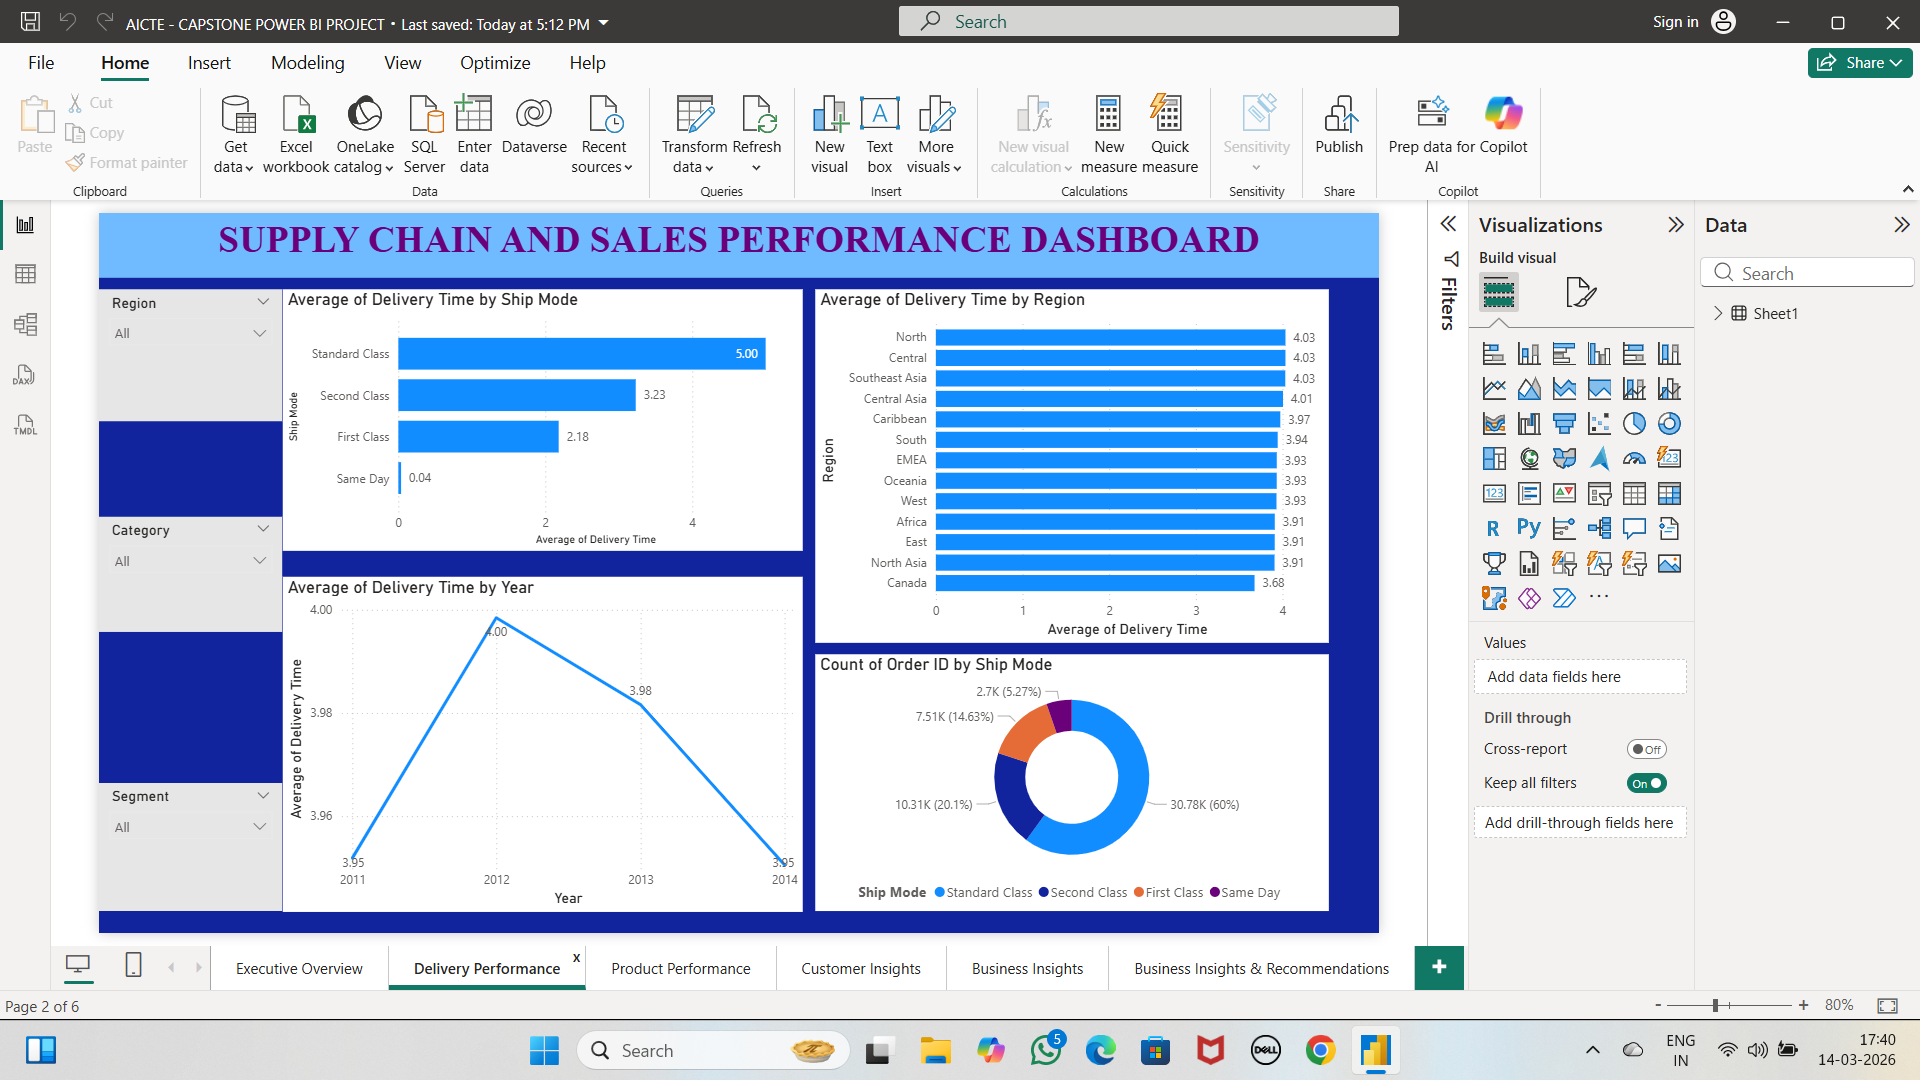

What the dashboard file says about the page in this screenshot:
{"tool":"powerbi","page":{"name":"Delivery Performance","canvas":[1280,720],"ordinal":1},"visuals":[{"type":"textbox","box":[0,0,1280,65],"z":1000},{"type":"clusteredBarChart","fields":{"Y":["Avg(Sheet1.Delivery Time)"],"Category":["Sheet1.Ship Mode"]},"box":[183.3,76.7,520,261.7],"z":2000},{"type":"barChart","fields":{"Category":["Sheet1.Region"],"Y":["Avg(Sheet1.Delivery Time)"]},"box":[716.7,76.7,513.3,353.3],"z":3000},{"type":"lineChart","fields":{"Category":["Sheet1.Order Date.Variation.Date Hierarchy.Year","Sheet1.Order Date.Variation.Date Hierarchy.Quarter","Sheet1.Order Date.Variation.Date Hierarchy.Month","Sheet1.Order Date.Variation.Date Hierarchy.Day"],"Y":["Avg(Sheet1.Delivery Time)"]},"box":[183.3,363.3,520,335],"z":4000},{"type":"donutChart","fields":{"Y":["CountNonNull(Sheet1.Order ID)"],"Category":["Sheet1.Ship Mode"]},"box":[716.7,441.7,513.3,256.7],"z":5000},{"type":"slicer","fields":{"Values":["Sheet1.Region"]},"box":[0,76.7,183.3,131.7],"z":6000},{"type":"slicer","fields":{"Values":["Sheet1.Category"]},"box":[0,303.3,183.3,115],"z":7000},{"type":"slicer","fields":{"Values":["Sheet1.Segment"]},"box":[0,570,183.3,128.3],"z":8000}]}

Visuals, with their boxes on the page's 1280x720 design canvas (x1, y1, x2, y2). These are canvas units, not pixel positions in the 1920x1080 screenshot, which may show the page scaled, cropped or inside an application window:
textbox: rect(0, 0, 1280, 65)
clusteredBarChart - Avg(Sheet1.Delivery Time) x Sheet1.Ship Mode: rect(183, 77, 703, 338)
barChart - Sheet1.Region x Avg(Sheet1.Delivery Time): rect(717, 77, 1230, 430)
lineChart - Sheet1.Order Date.Variation.Date Hierarchy.Year x Sheet1.Order Date.Variation.Date Hierarchy.Quarter: rect(183, 363, 703, 698)
donutChart - CountNonNull(Sheet1.Order ID) x Sheet1.Ship Mode: rect(717, 442, 1230, 698)
slicer - Sheet1.Region: rect(0, 77, 183, 208)
slicer - Sheet1.Category: rect(0, 303, 183, 418)
slicer - Sheet1.Segment: rect(0, 570, 183, 698)
